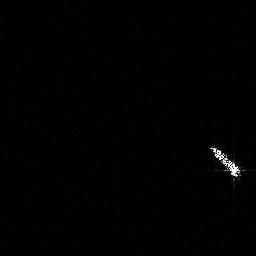ship: (206, 142, 246, 182)
